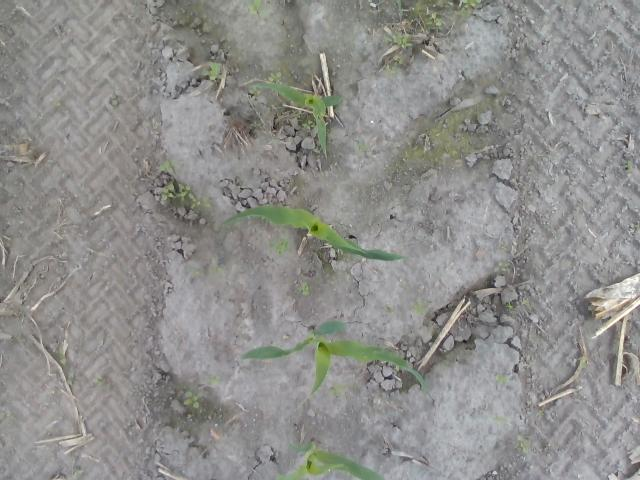Maize: (239, 320, 429, 398), (222, 204, 406, 262), (254, 81, 344, 159), (273, 437, 387, 480)
Weeds: (158, 160, 213, 208), (384, 32, 414, 74), (252, 73, 284, 94), (292, 109, 318, 132), (270, 232, 292, 256), (200, 62, 222, 80), (507, 298, 532, 312), (250, 1, 269, 18), (184, 390, 204, 406), (413, 298, 429, 316), (426, 13, 444, 29), (328, 384, 347, 399), (518, 434, 532, 454), (58, 348, 71, 368), (494, 261, 512, 275), (90, 378, 107, 391), (462, 0, 484, 9), (576, 356, 590, 370), (300, 282, 314, 296), (111, 90, 122, 107), (210, 374, 222, 386), (70, 470, 84, 480), (624, 160, 634, 174), (356, 142, 368, 153), (494, 414, 510, 422), (496, 374, 506, 383), (384, 305, 392, 314), (56, 102, 62, 107), (538, 410, 542, 416), (254, 122, 258, 127)
